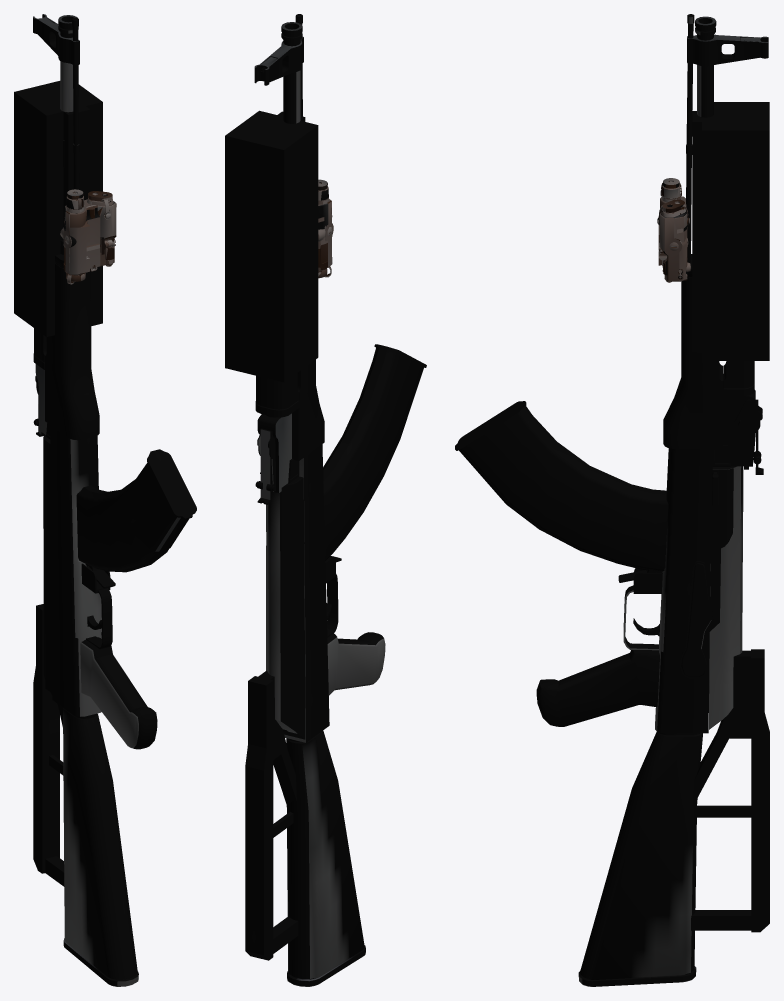
File: AK47__Handguard_AK_Quad__Laser_Rifle__Stock_AK_Folding.fbx
3 views of the same model, side by side, from view 1: azimuth 30°, elevation 25°; view 2: azimuth 150°, elevation 25°; view 3: azimuth 270°, elevation 25° (orthographic). The views are drawn at different scales.
Parts seen in each view (by area): view 1: asset_AK47.001; view 2: asset_AK47.001; view 3: asset_AK47.001.
Boxes of the visible parts, <box> form: asset_AK47.001: <box>14,14,196,986</box>; asset_AK47.001: <box>225,14,426,986</box>; asset_AK47.001: <box>455,14,769,986</box>.
Size of the model in its own units: 0.0336 by 0.528 by 0.1561.
